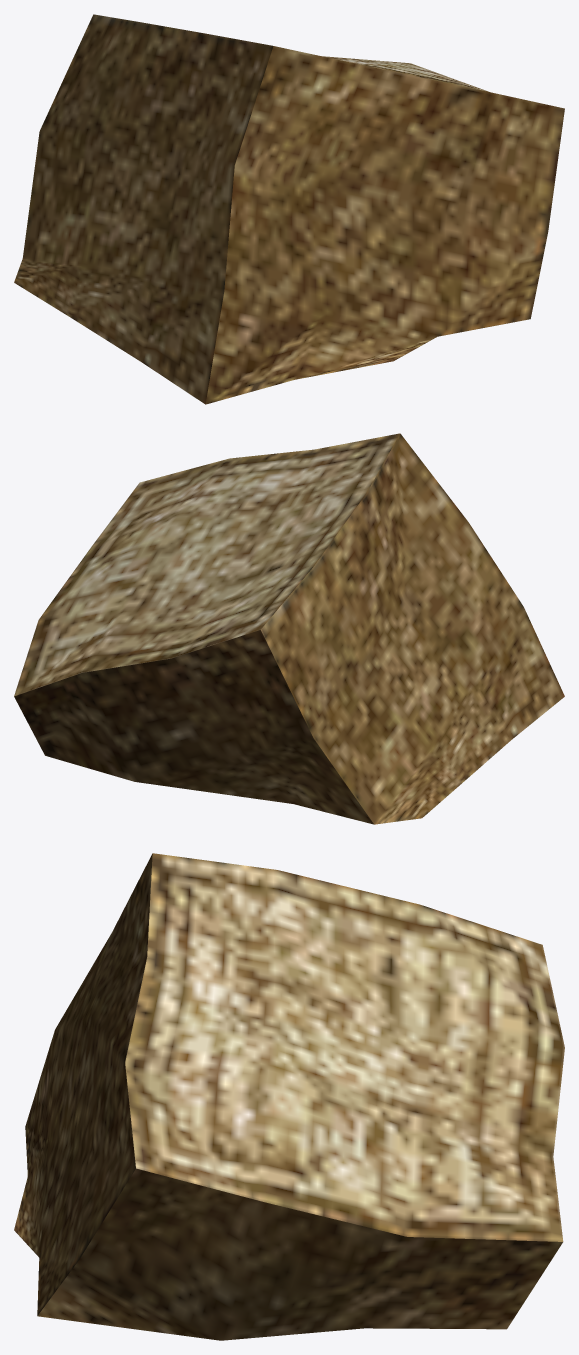
Rendered from ob-bigstone03.glb.
The picture shows the model from 3 angles, top to bottom: view 1: azimuth 30°, elevation 25°; view 2: azimuth 150°, elevation 25°; view 3: azimuth 270°, elevation 25°; orthographic projection. The views are drawn at different scales.
Visible parts, largest first — view 1: Box01; view 2: Box01; view 3: Box01.
Part boxes in pixels (x1=…): Box01: x1=14, y1=14, x2=564, y2=404; Box01: x1=14, y1=433, x2=564, y2=824; Box01: x1=14, y1=853, x2=564, y2=1340.
Size of the model in its own units: 4.16 by 2.71 by 3.93.
1 material, 1 textured.
